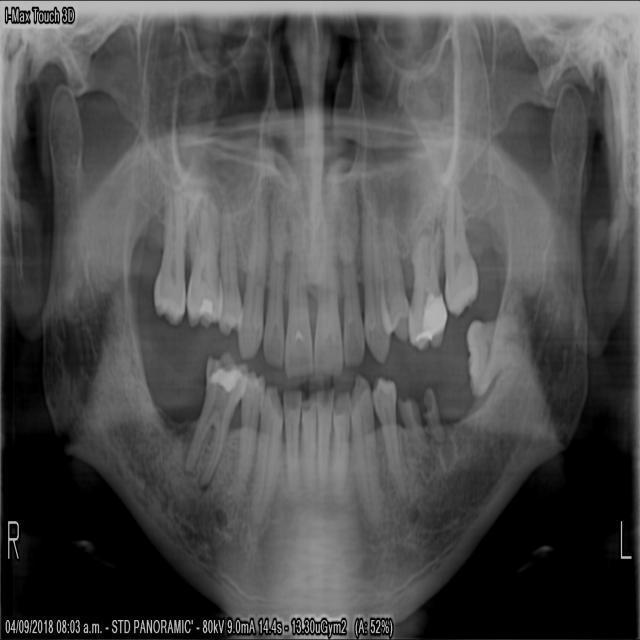LCD: (347, 366, 382, 537)
LCU: (357, 180, 391, 370)
LID: (313, 381, 336, 509), (329, 382, 351, 503)
LIU: (310, 210, 343, 385), (335, 209, 366, 372)
LMD: (460, 305, 522, 403)
LMU: (405, 204, 449, 356), (439, 171, 480, 319)
LPMD: (369, 368, 408, 510)
LPMU: (376, 182, 412, 346)
RCD: (245, 374, 285, 535)
RCU: (233, 172, 270, 361)
RID: (280, 379, 304, 510), (298, 379, 318, 508)
RIU: (259, 182, 288, 372), (281, 214, 313, 383)
RMD: (179, 340, 249, 489)
RMU: (182, 187, 225, 335), (150, 172, 185, 331)
RPMD: (224, 360, 266, 508)
RPMU: (213, 194, 243, 341)
